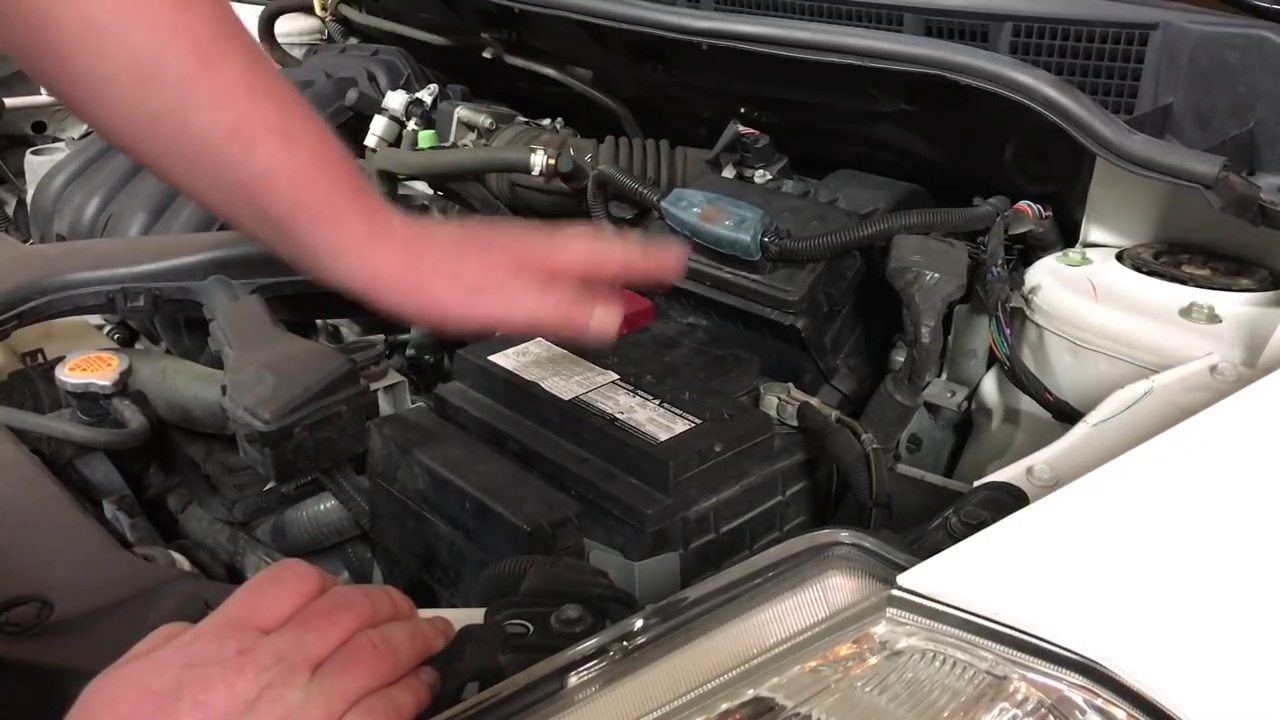battery: (443, 273, 822, 476)
neg_connected: (745, 369, 856, 463)
pos_touched: (549, 238, 674, 359)
